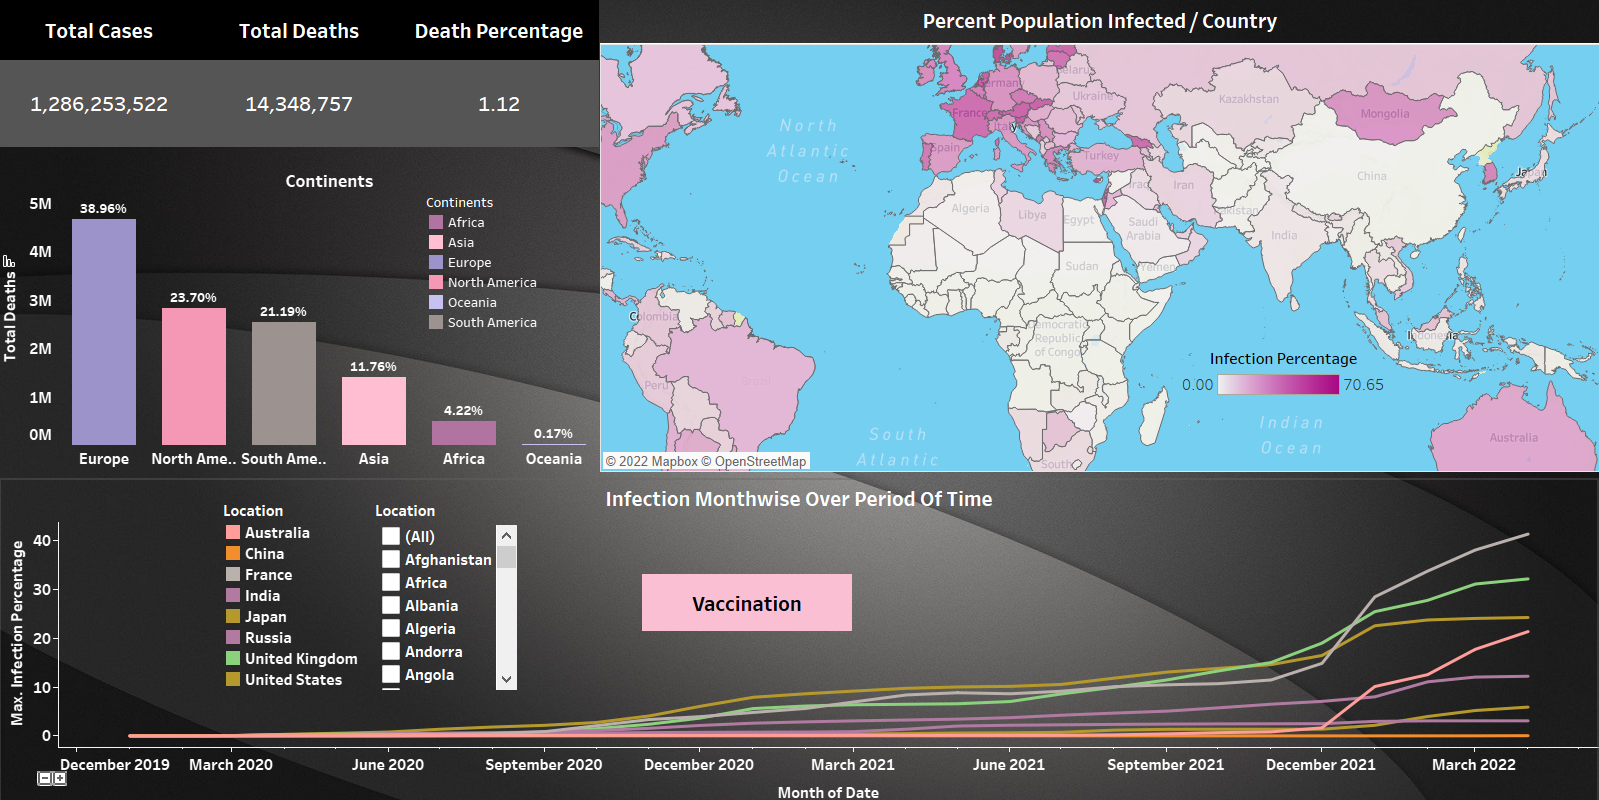

What the dashboard file says about the page in this screenshot:
{"tool":"tableau","page":{"name":"Dashboard 1","canvas":[1600,800],"ordinal":0},"visuals":[{"type":"image","param":"Image/grey.jpg","box":[0,0,1600,800]},{"type":"worksheet","title":"KPI","mark":"Automatic","box":[0,0,600,147]},{"type":"worksheet","title":"WorldMap2","mark":"Automatic","box":[601,2,1000,470]},{"type":"worksheet","title":"ContinentDeaths","mark":"Automatic","rows":["total_deaths"],"cols":["cont"],"box":[0,170,600,300]},{"type":"legend","title":"ContinentDeaths","param":"[federated.16s89sv11o7o5t17was630ik7c1y].[none:cont:nk]","box":[427,193,140,148]},{"type":"legend","title":"WorldMap2","param":"[federated.0g2dpwh1u4vm9v10055cg0yhtrwj].[max:infection_percentage:qk]","box":[1179,348,211,68]},{"type":"legend","title":"Sheet 4","param":"[federated.0g2dpwh1u4vm9v10055cg0yhtrwj].[none:location:nk]","box":[224,500,142,203]},{"type":"filter","title":"Sheet 4","param":"[federated.0g2dpwh1u4vm9v10055cg0yhtrwj].[none:location:nk]","box":[376,500,142,190]},{"type":"dashboard-object","box":[643,574,210,57]}]}

Visuals, with their boxes in screenshot pixels (x1, y1, x2, y2), scaled from the page's 1600x800 canvas onto the 1599x800 screenshot:
image: (x1=0, y1=0, x2=1598, y2=799)
"KPI" worksheet: (x1=0, y1=0, x2=600, y2=147)
"WorldMap2" worksheet: (x1=601, y1=2, x2=1598, y2=472)
"ContinentDeaths" worksheet: (x1=0, y1=170, x2=600, y2=470)
"ContinentDeaths" legend: (x1=427, y1=193, x2=567, y2=341)
"WorldMap2" legend: (x1=1178, y1=348, x2=1389, y2=416)
"Sheet 4" legend: (x1=224, y1=500, x2=366, y2=703)
"Sheet 4" filter: (x1=376, y1=500, x2=518, y2=690)
dashboard-object: (x1=643, y1=574, x2=852, y2=631)
